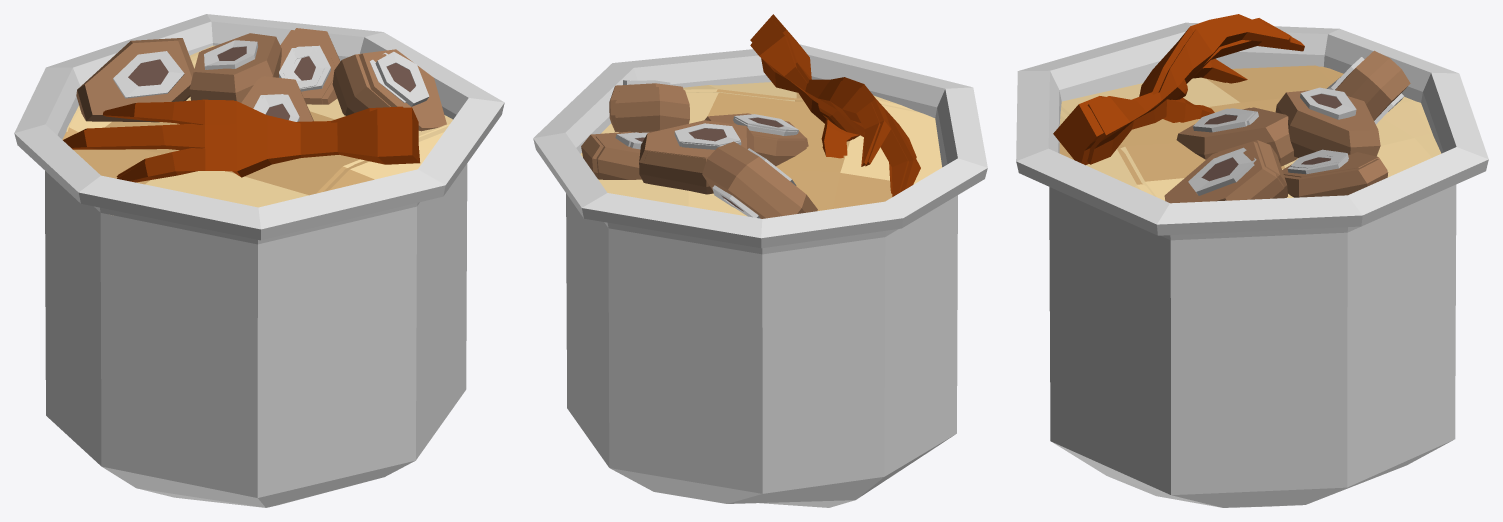
Rendered from Steam_Pork_Rib_Rice.fbx.
3 renders of one model, left to right at view 1: azimuth 30°, elevation 25°; view 2: azimuth 150°, elevation 25°; view 3: azimuth 270°, elevation 25°, orthographic. The views are drawn at different scales.
Visible parts, largest first — view 1: Plane.011; view 2: Plane.011; view 3: Plane.011.
Part boxes in pixels (x1,y1,x2,y2): Plane.011: (14,14,504,507); Plane.011: (533,14,987,507); Plane.011: (1016,14,1488,507).
Bounding box in the file's own units: 121 × 113 × 120.
